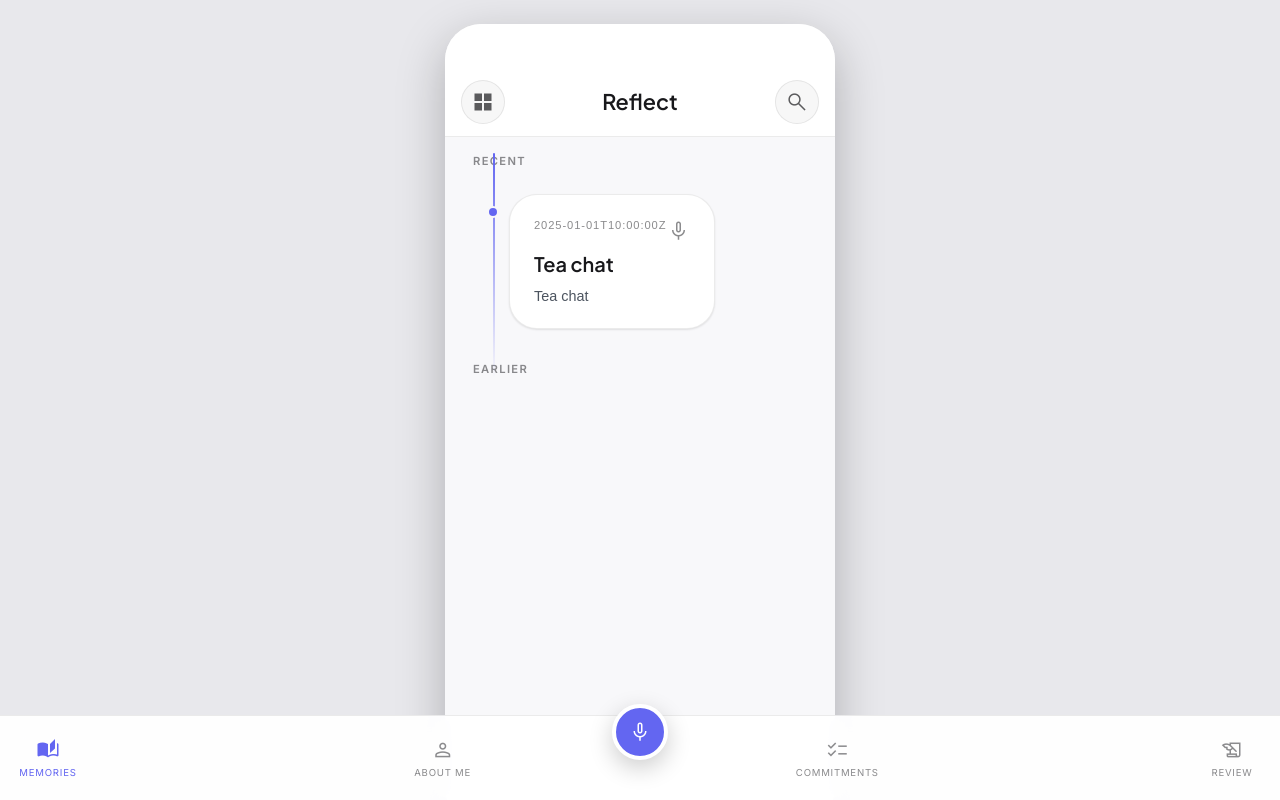
Test: Reflect backend mapping › maps claims into UI
Click the link "About Me" at (443, 759), box [411,738,475,780]
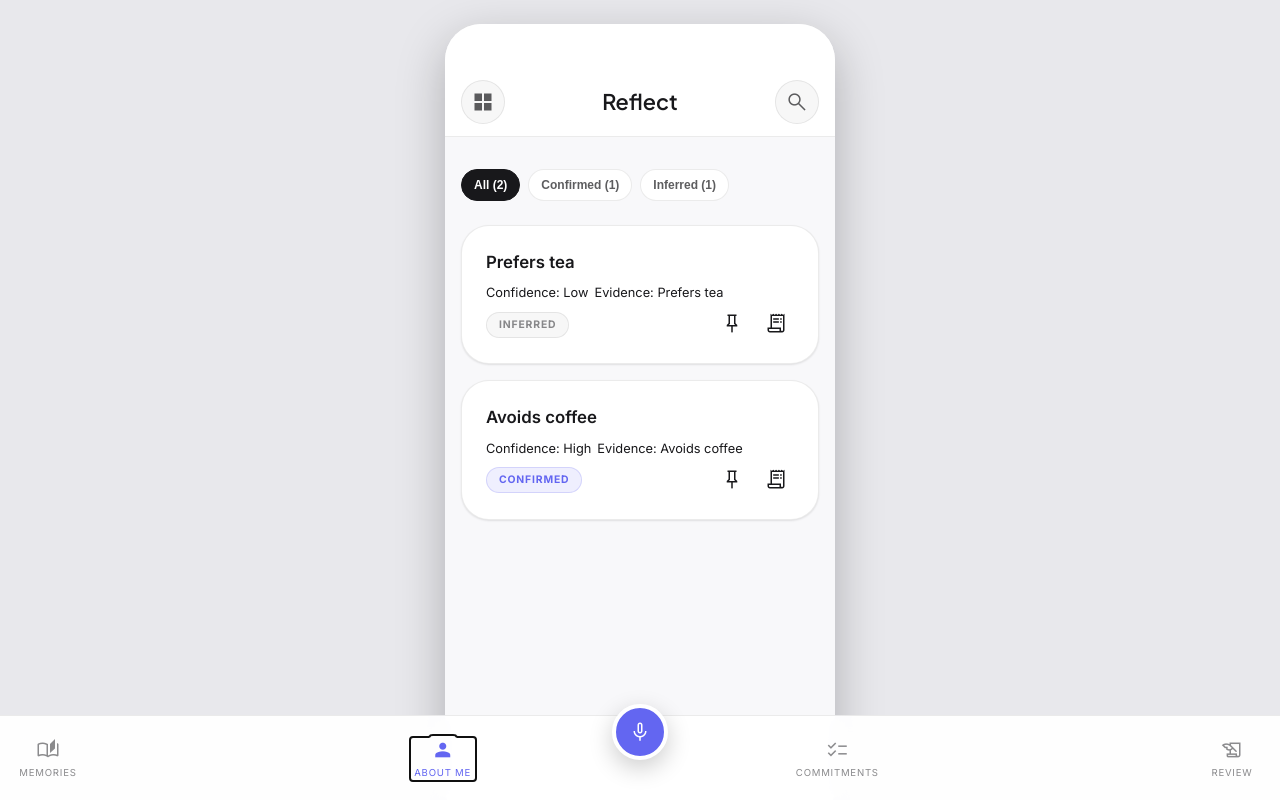
Click the text "Prefers tea" at (530, 262), box [486,252,575,272]
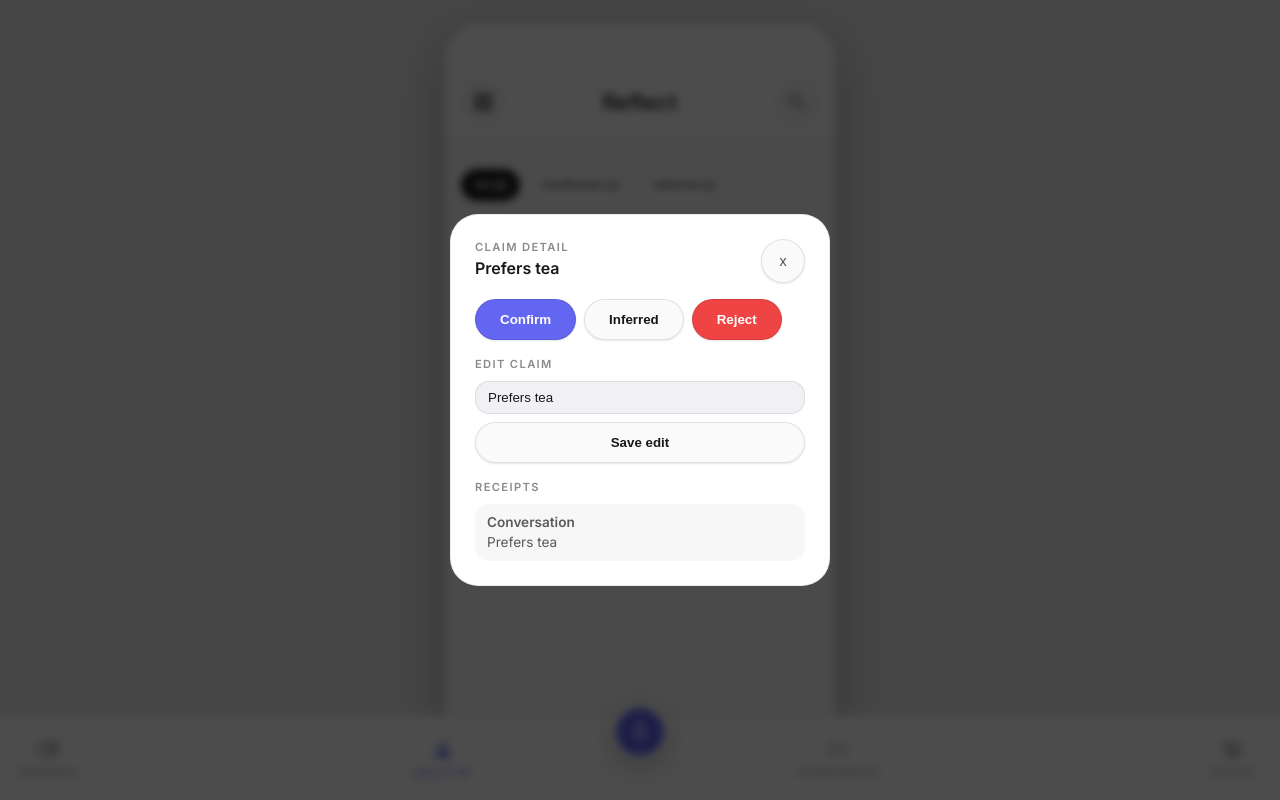
Result: the text "Prefers tea" below "Reflect" is shown at [486,252,575,272]
Result: the text "Claim detail" is shown at [475,239,569,256]
Result: the text "Receipts" is shown at [475,480,540,494]
Click the button named "Close" at (783, 261), box [761,239,805,283]
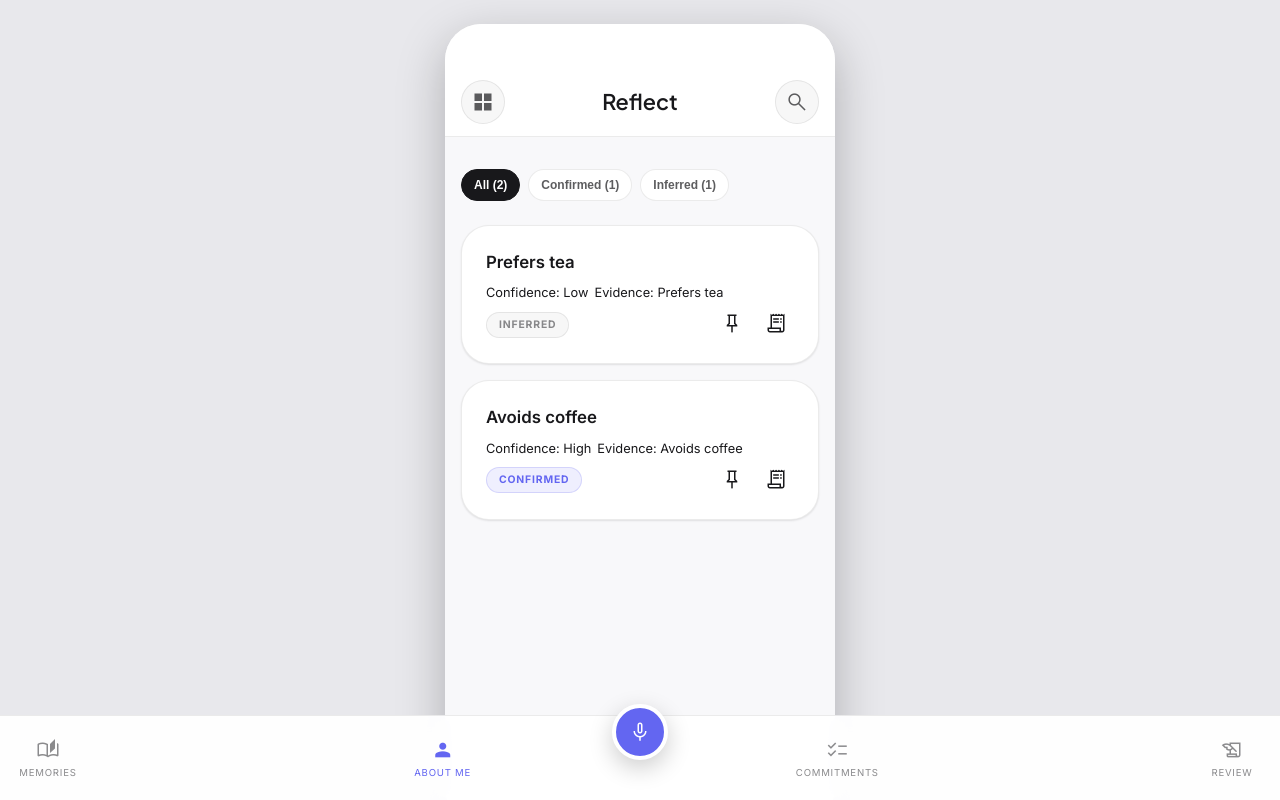
Result: the text "Claim detail" is gone
